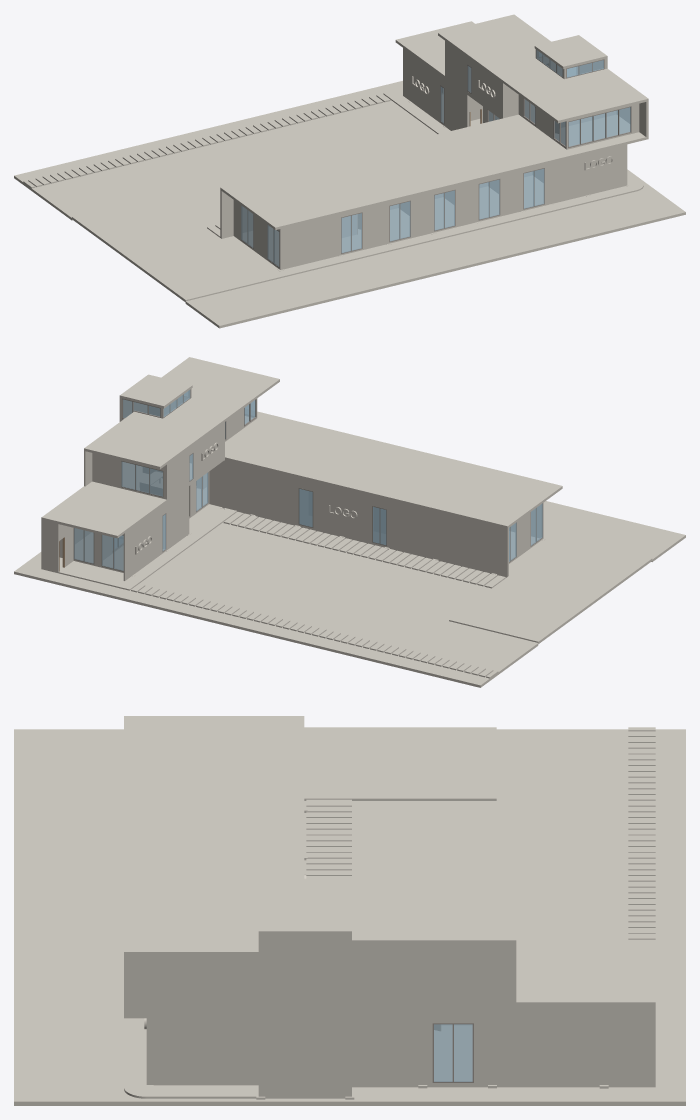
The model's file is aldyar-management.glb.
3 views of the same model, one above another, from view 1: azimuth 30°, elevation 25°; view 2: azimuth 150°, elevation 25°; view 3: azimuth 270°, elevation 25° (orthographic). The views are drawn at different scales.
Parts seen in each view (by area): view 1: stone, glass, metal; view 2: stone, glass, metal; view 3: stone, glass.
Boxes of the visible parts, x1=… form: stone: x1=14, y1=14, x2=685, y2=328; glass: x1=241, y1=50, x2=630, y2=266; metal: x1=241, y1=49, x2=631, y2=267; stone: x1=14, y1=357, x2=685, y2=687; glass: x1=74, y1=390, x2=542, y2=570; metal: x1=73, y1=389, x2=542, y2=571; stone: x1=14, y1=716, x2=685, y2=1105; glass: x1=434, y1=1024, x2=472, y2=1081.
Bounding box in the file's own units: 100 × 21.72 × 76.27.
